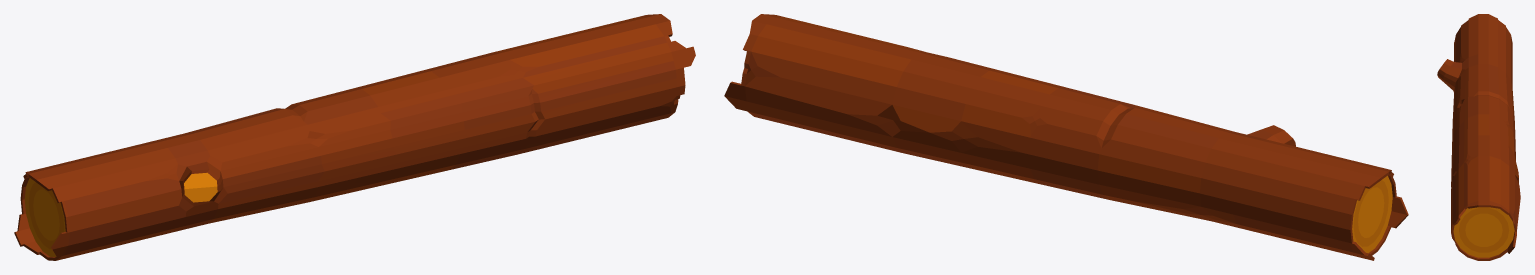
File: Log_2.fbx
3 views of the same model, side by side, from view 1: azimuth 30°, elevation 25°; view 2: azimuth 150°, elevation 25°; view 3: azimuth 270°, elevation 25° (orthographic). The views are drawn at different scales.
Parts seen in each view (by area): view 1: Circle; view 2: Circle; view 3: Circle.
Part boxes in pixels (bbox=[...]): Circle: bbox=[14, 14, 695, 260]; Circle: bbox=[724, 14, 1408, 260]; Circle: bbox=[1437, 14, 1520, 260].
Bounding box in the file's own units: 218 × 30.39 × 38.98.
